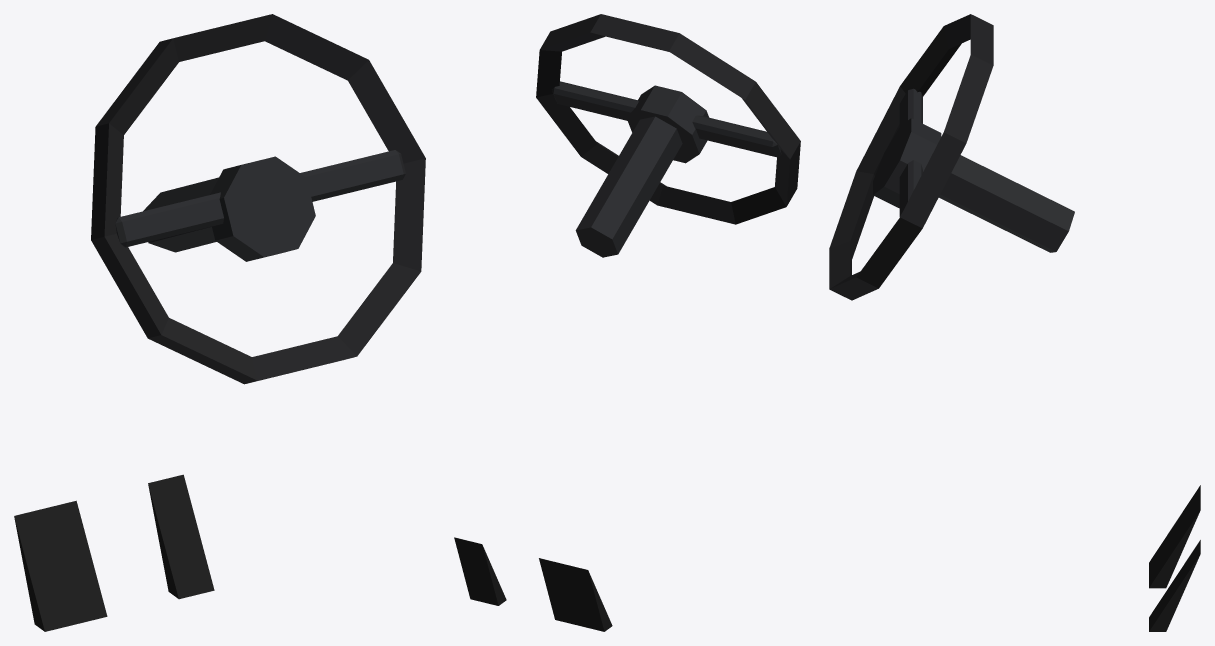
File: vp_controls.glb
The picture shows the model from 3 angles, left to right: view 1: azimuth 30°, elevation 25°; view 2: azimuth 150°, elevation 25°; view 3: azimuth 270°, elevation 25°; orthographic projection. The views are drawn at different scales.
Visible parts, largest first — view 1: block_brake, block_hub, block_spoke, block_gas, block_rim5, block_rim4, block_rim9, block_rim0, block_rim6, block_rim3, block_rim1, block_rim8 (+3 smaller); view 2: block_column, block_spoke, block_brake, block_hub, block_gas, block_rim3, block_rim2, block_rim7, block_rim4, block_rim9, block_rim1, block_rim6 (+3 smaller); view 3: block_column, block_hub, block_rim0, block_rim1, block_brake, block_rim6, block_rim9, block_rim4, block_gas, block_spoke, block_rim5, block_rim2 (+3 smaller).
Part boxes in pixels (x1,y1,x2,y2): block_brake: (14, 500, 107, 631); block_hub: (210, 156, 315, 261); block_spoke: (115, 150, 405, 247); block_gas: (148, 474, 214, 599); block_rim5: (91, 233, 168, 338); block_rim4: (91, 123, 123, 239); block_rim9: (393, 158, 425, 271); block_rim0: (348, 60, 425, 163); block_rim6: (148, 318, 257, 384); block_rim3: (96, 38, 178, 134); block_rim1: (265, 14, 368, 80); block_rim8: (338, 263, 420, 356); block_column: (575, 116, 682, 257); block_spoke: (552, 81, 781, 157); block_brake: (539, 558, 612, 631); block_hub: (627, 85, 708, 163); block_gas: (454, 537, 506, 605); block_rim3: (669, 33, 755, 99); block_rim2: (590, 14, 679, 51); block_rim7: (657, 185, 735, 224); block_rim4: (742, 82, 800, 159); block_rim9: (536, 94, 597, 156); block_rim1: (540, 14, 605, 51); block_rim6: (731, 187, 786, 224); block_column: (939, 155, 1074, 252); block_hub: (873, 118, 941, 208); block_rim0: (900, 132, 966, 228); block_rim1: (944, 55, 993, 143); block_brake: (1149, 485, 1200, 588); block_rim6: (829, 171, 874, 258); block_rim9: (856, 217, 922, 288); block_rim4: (900, 26, 961, 96); block_gas: (1149, 540, 1200, 631); block_spoke: (899, 88, 922, 216); block_rim5: (856, 86, 905, 175); block_rim2: (970, 14, 993, 65).
Bounding box in the file's own units: 0.36 × 0.7133 × 0.4308.
Materials: 1 (1 with a texture image).
